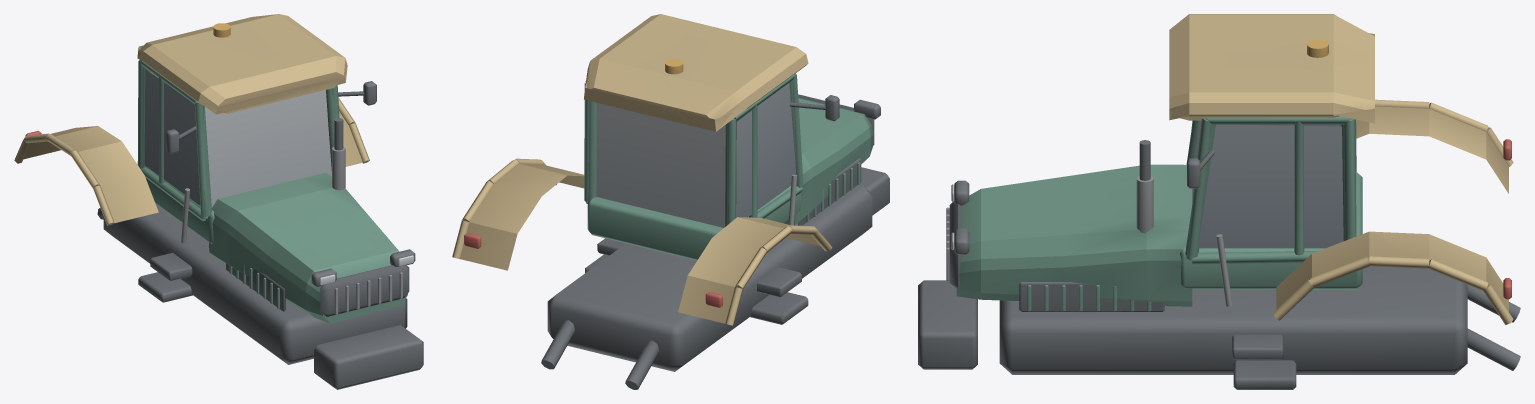
Rendered from body.glb.
3 renders of one model, left to right at view 1: azimuth 30°, elevation 25°; view 2: azimuth 150°, elevation 25°; view 3: azimuth 270°, elevation 25°, orthographic. The views are drawn at different scales.
Visible parts, largest first — view 1: tractor; view 2: tractor; view 3: tractor.
Part boxes in pixels (x1,y1,x2,y2): tractor: (14,14,423,389); tractor: (452,14,889,389); tractor: (918,14,1520,389).
Bounding box in the file's own units: 2.67 × 2.34 × 4.22.
